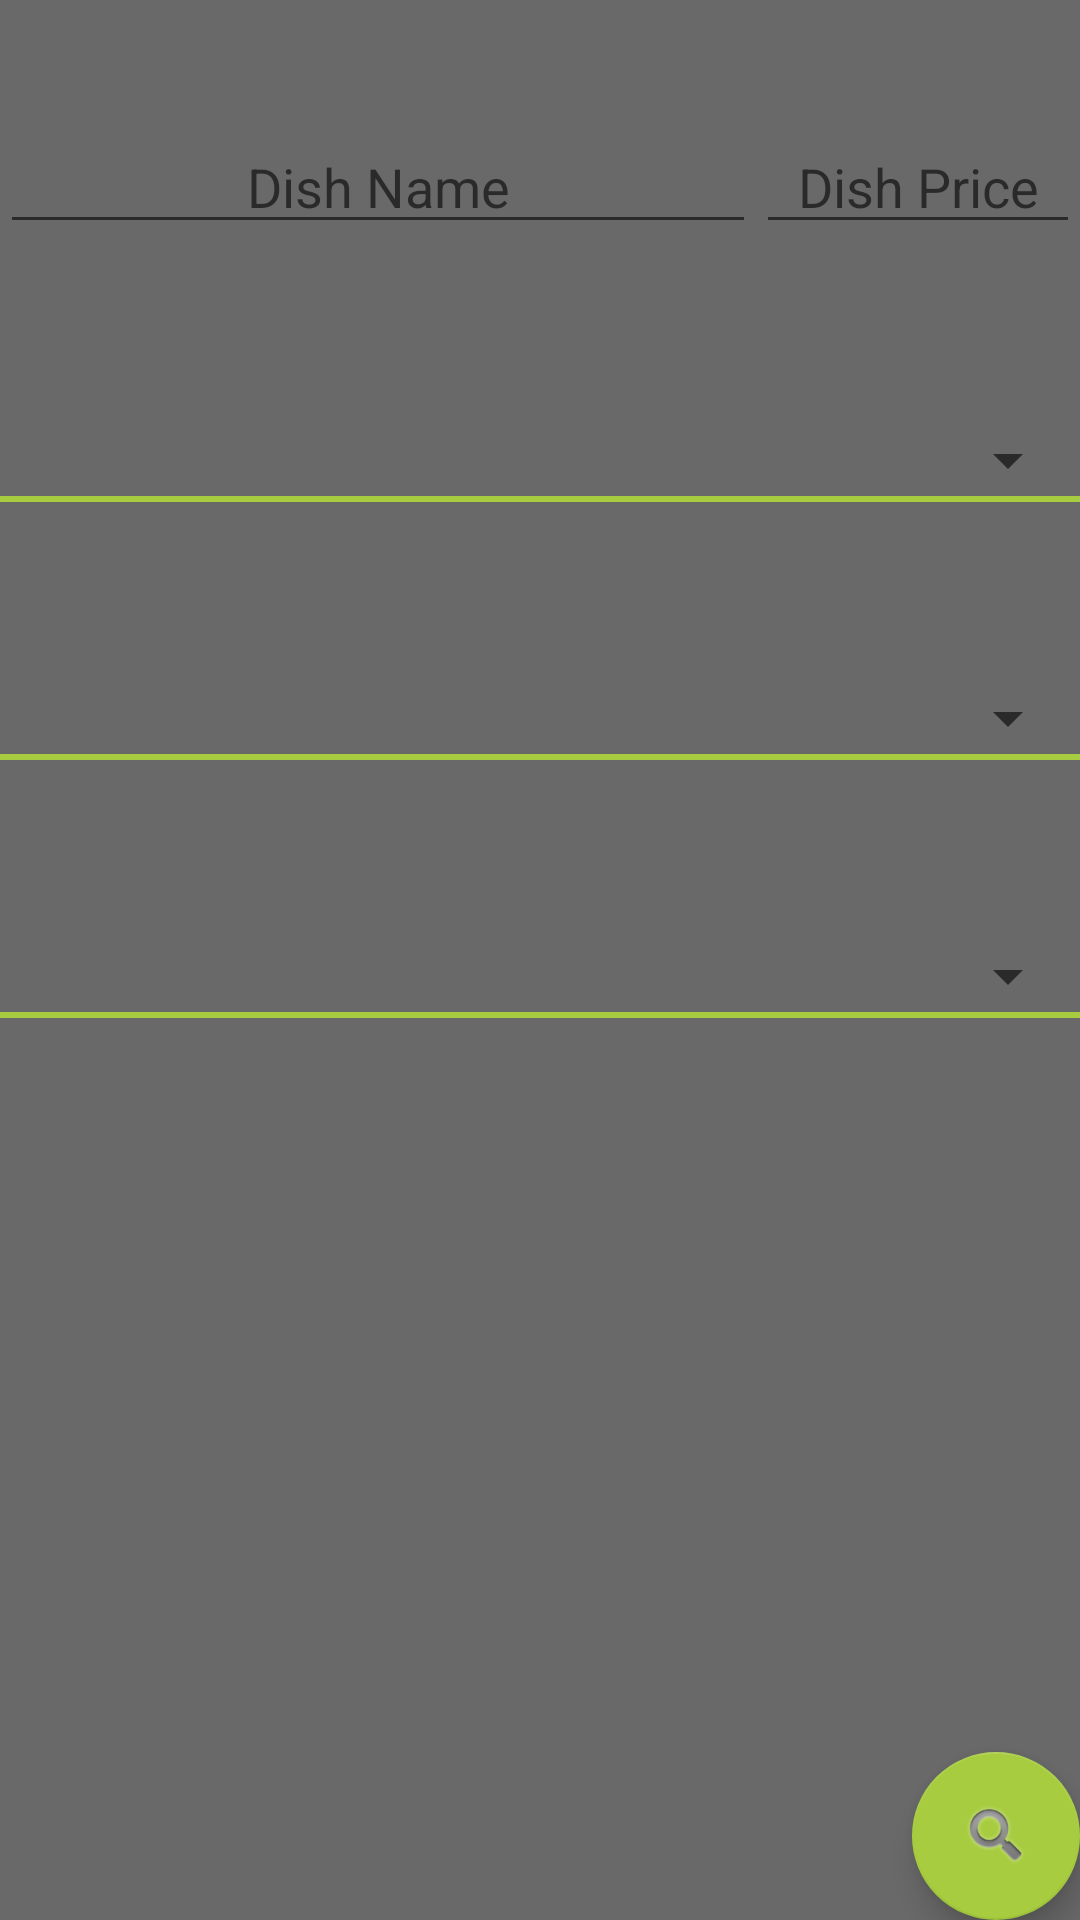

Named icons in this screenshot (1080x1920) and their centers, (x=x, y=y):
search category: (x=996, y=1836)
